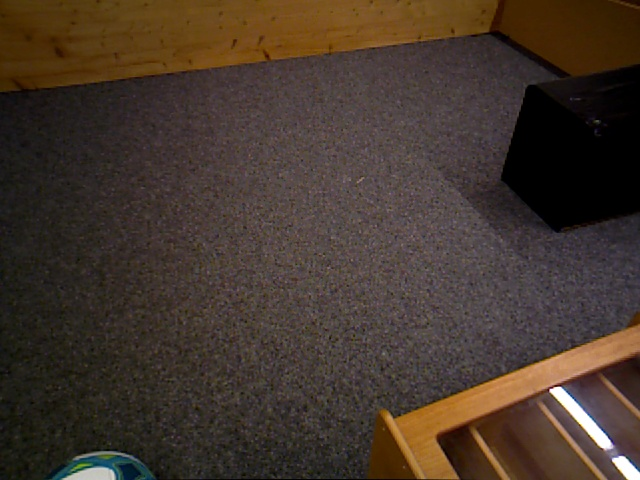kick: (48, 450, 155, 480)
push: (501, 58, 640, 232)
